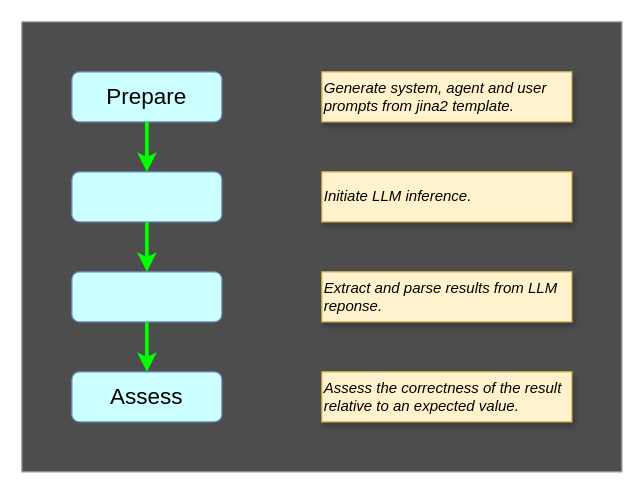
Some shapes in this 644 by 494 pixel diagram are drawn without their labels. Here are the shapes that lost their labels. From the top down, the centre of each, then its label:
(146,196): Infer
(146,296): Extract
